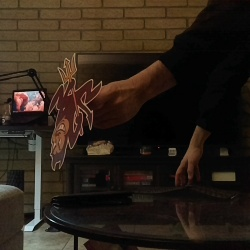sparky: (47, 51, 102, 170)
